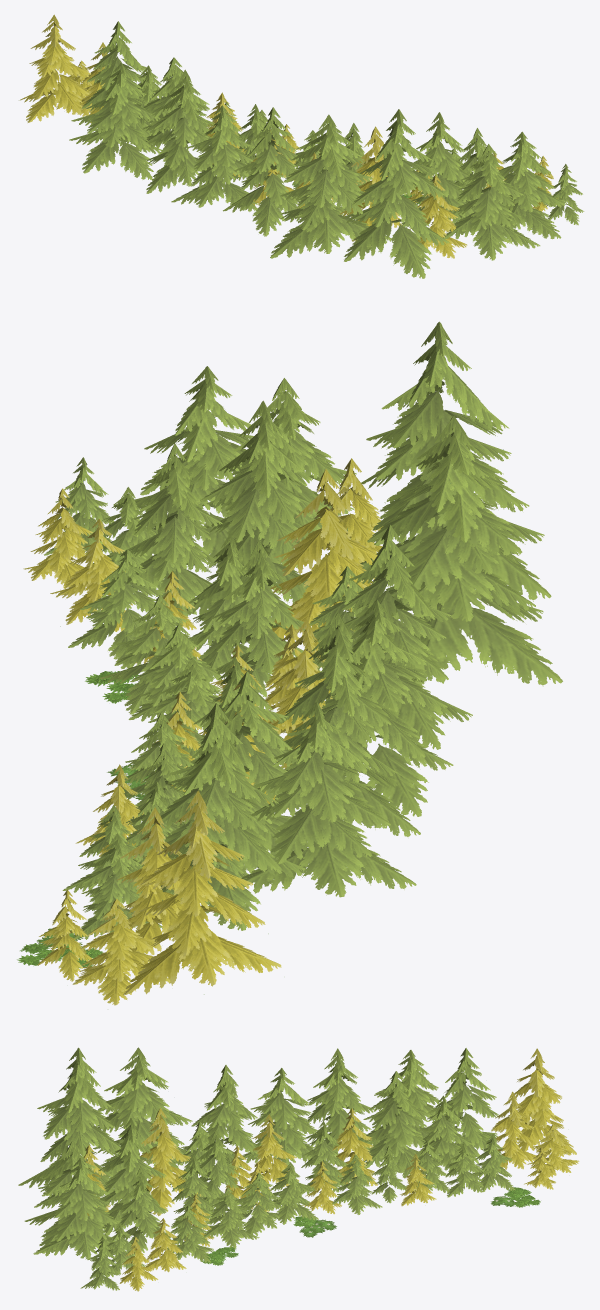
The model's file is area_08_29.fbx.
3 renders of one model, top to bottom at view 1: azimuth 30°, elevation 25°; view 2: azimuth 150°, elevation 25°; view 3: azimuth 270°, elevation 25°, orthographic. The views are drawn at different scales.
Parts seen in each view (by area): view 1: area_08_29; view 2: area_08_29; view 3: area_08_29.
Part boxes in pixels (left/top/right/bottom): area_08_29: left=19, top=14, right=584, bottom=278; area_08_29: left=17, top=321, right=562, bottom=1005; area_08_29: left=18, top=1047, right=579, bottom=1291.
Bounding box in the file's own units: 38.7 × 17.64 × 55.92.
